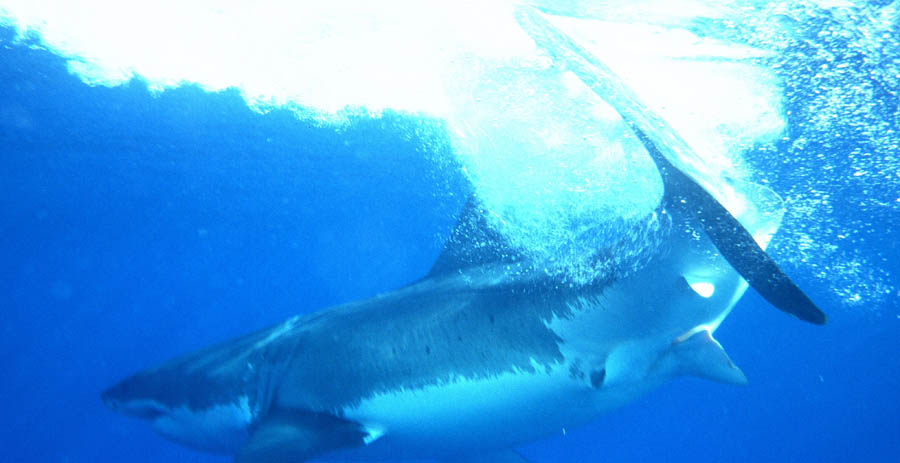Carcharodon_carcharias: (87, 136, 865, 463)
